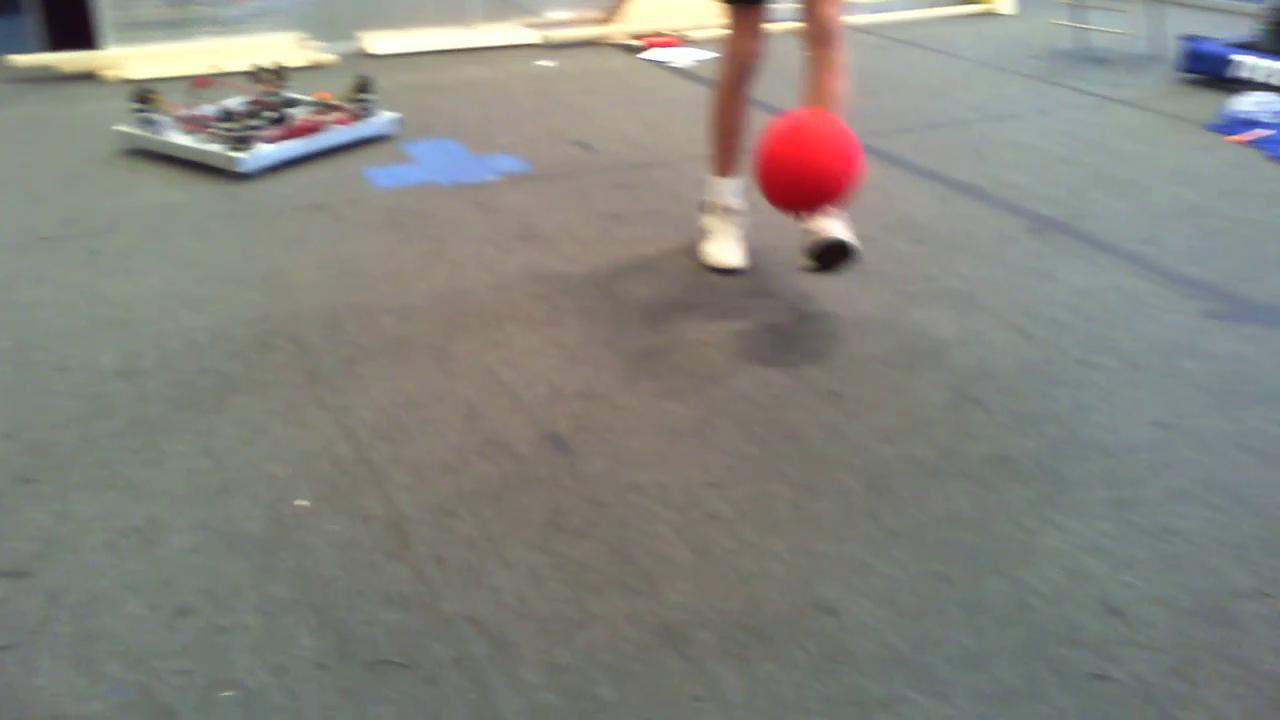Red_Ball: (748, 102, 867, 220)
